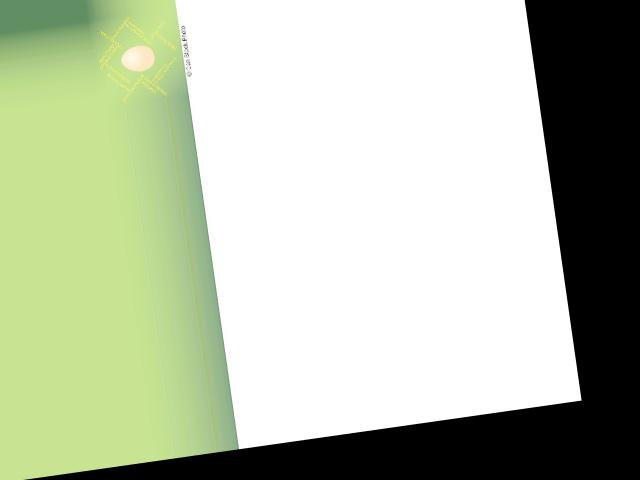egg: (119, 43, 156, 73)
